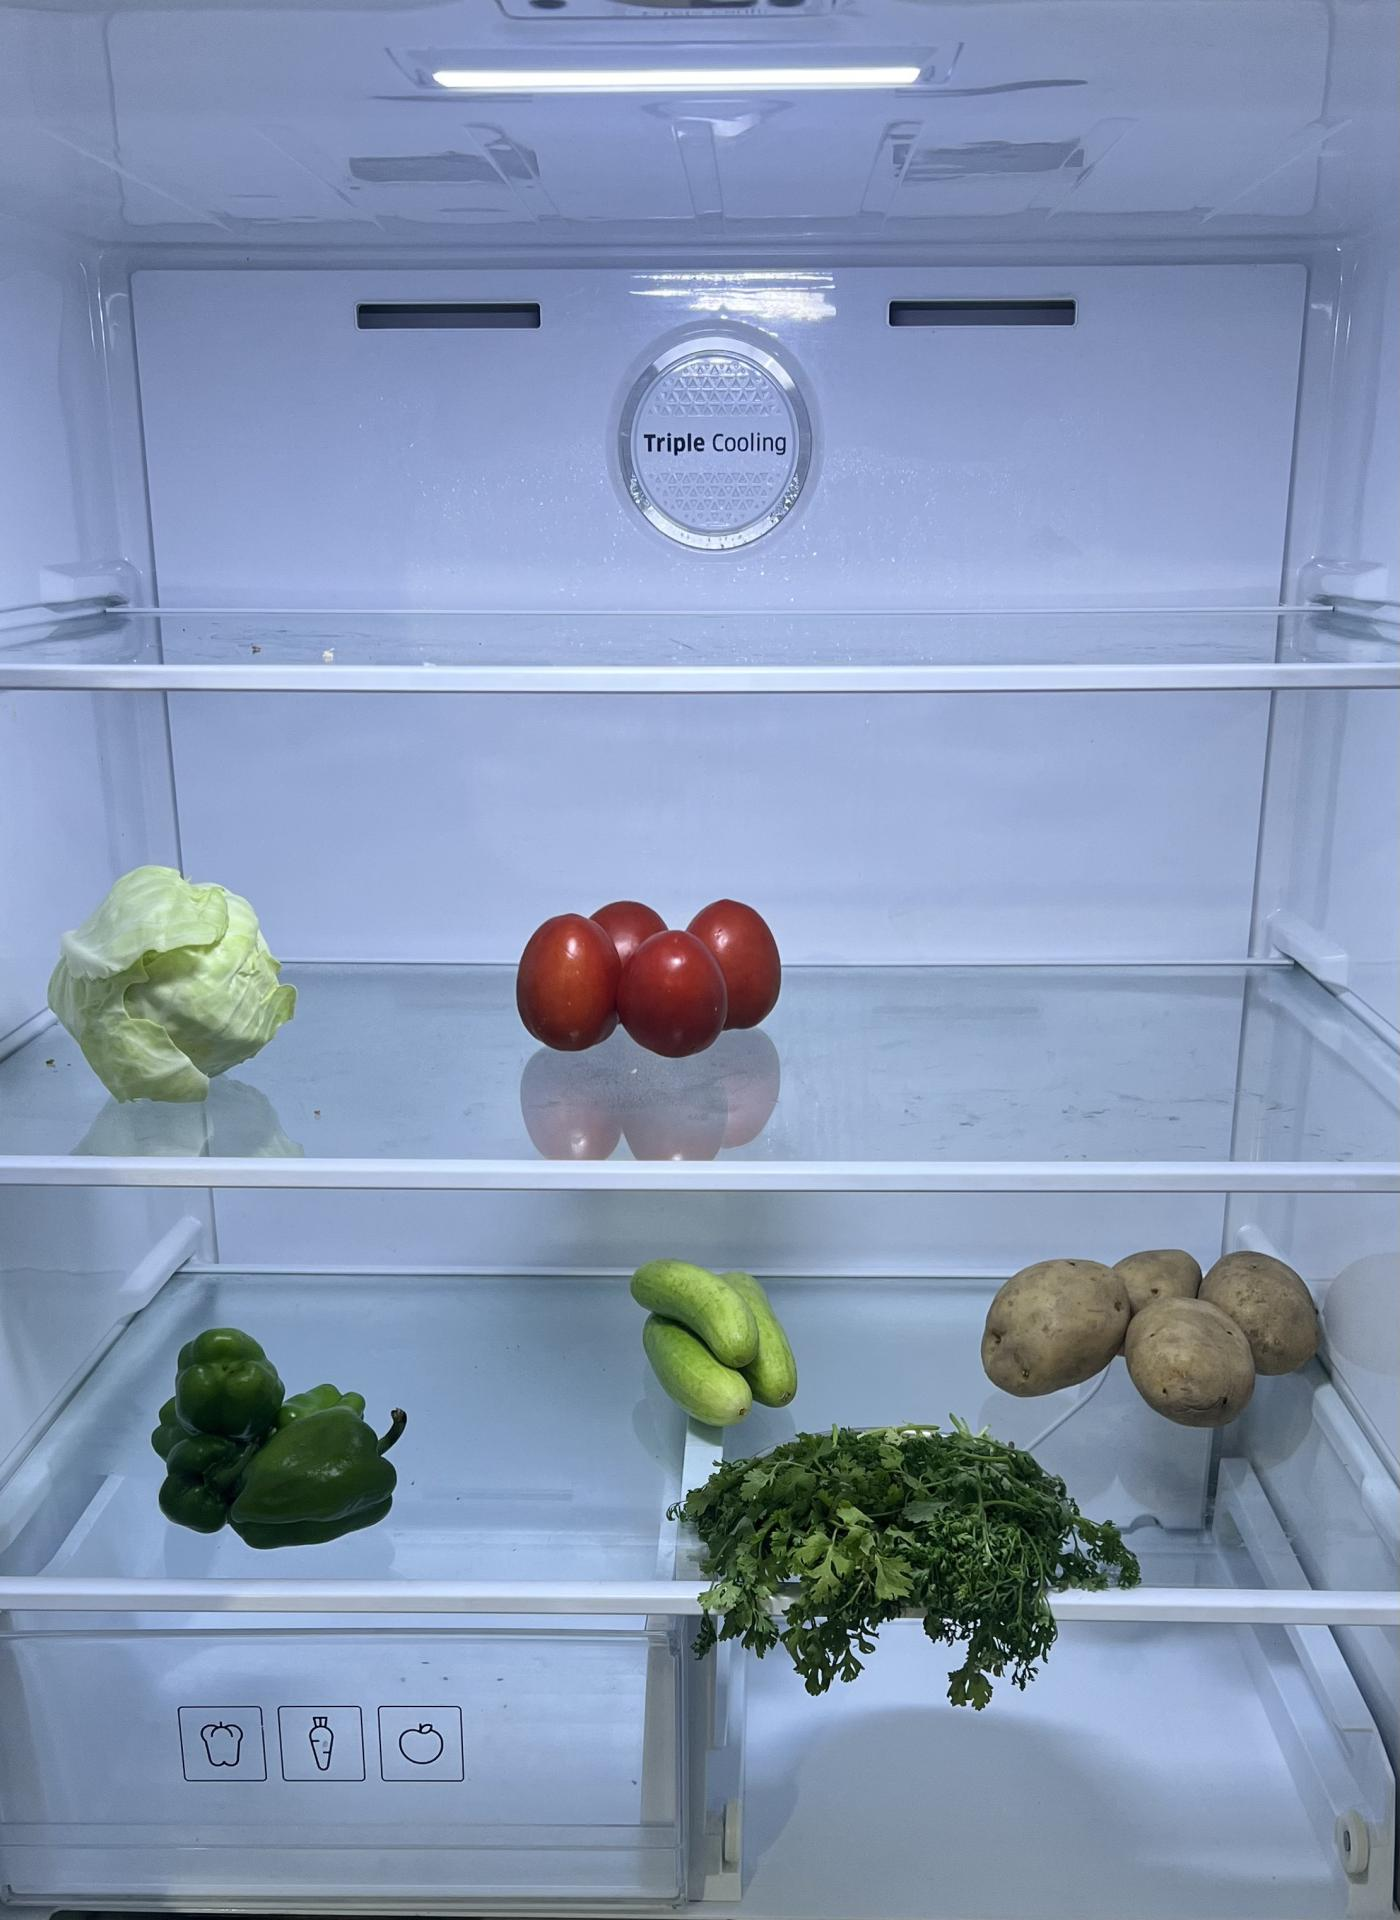cabbage: (49, 854, 298, 1102)
capsicum: (157, 1328, 414, 1549)
coriander: (686, 1416, 1129, 1655)
cucumber: (634, 1258, 801, 1427)
potato: (984, 1239, 1328, 1421)
tomato: (511, 893, 786, 1064)
